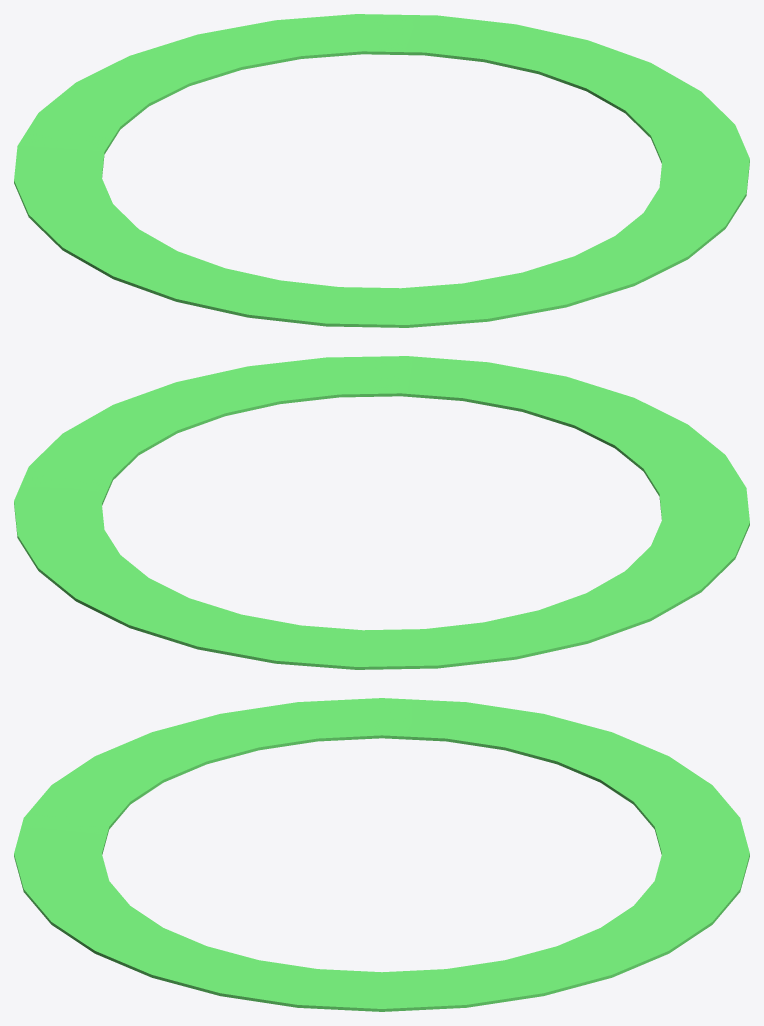
File: gizmo_rotate.FBX
3 views of the same model, one above another, from view 1: azimuth 30°, elevation 25°; view 2: azimuth 150°, elevation 25°; view 3: azimuth 270°, elevation 25° (orthographic).
Parts seen in each view (by area): view 1: Circle01; view 2: Circle01; view 3: Circle01.
Boxes of the visible parts, left/top/right/bottom form: Circle01: left=14, top=14, right=749, bottom=327; Circle01: left=14, top=356, right=749, bottom=669; Circle01: left=14, top=698, right=749, bottom=1011.
Size of the model in its own units: 48.13 by 0.2307 by 48.13.
